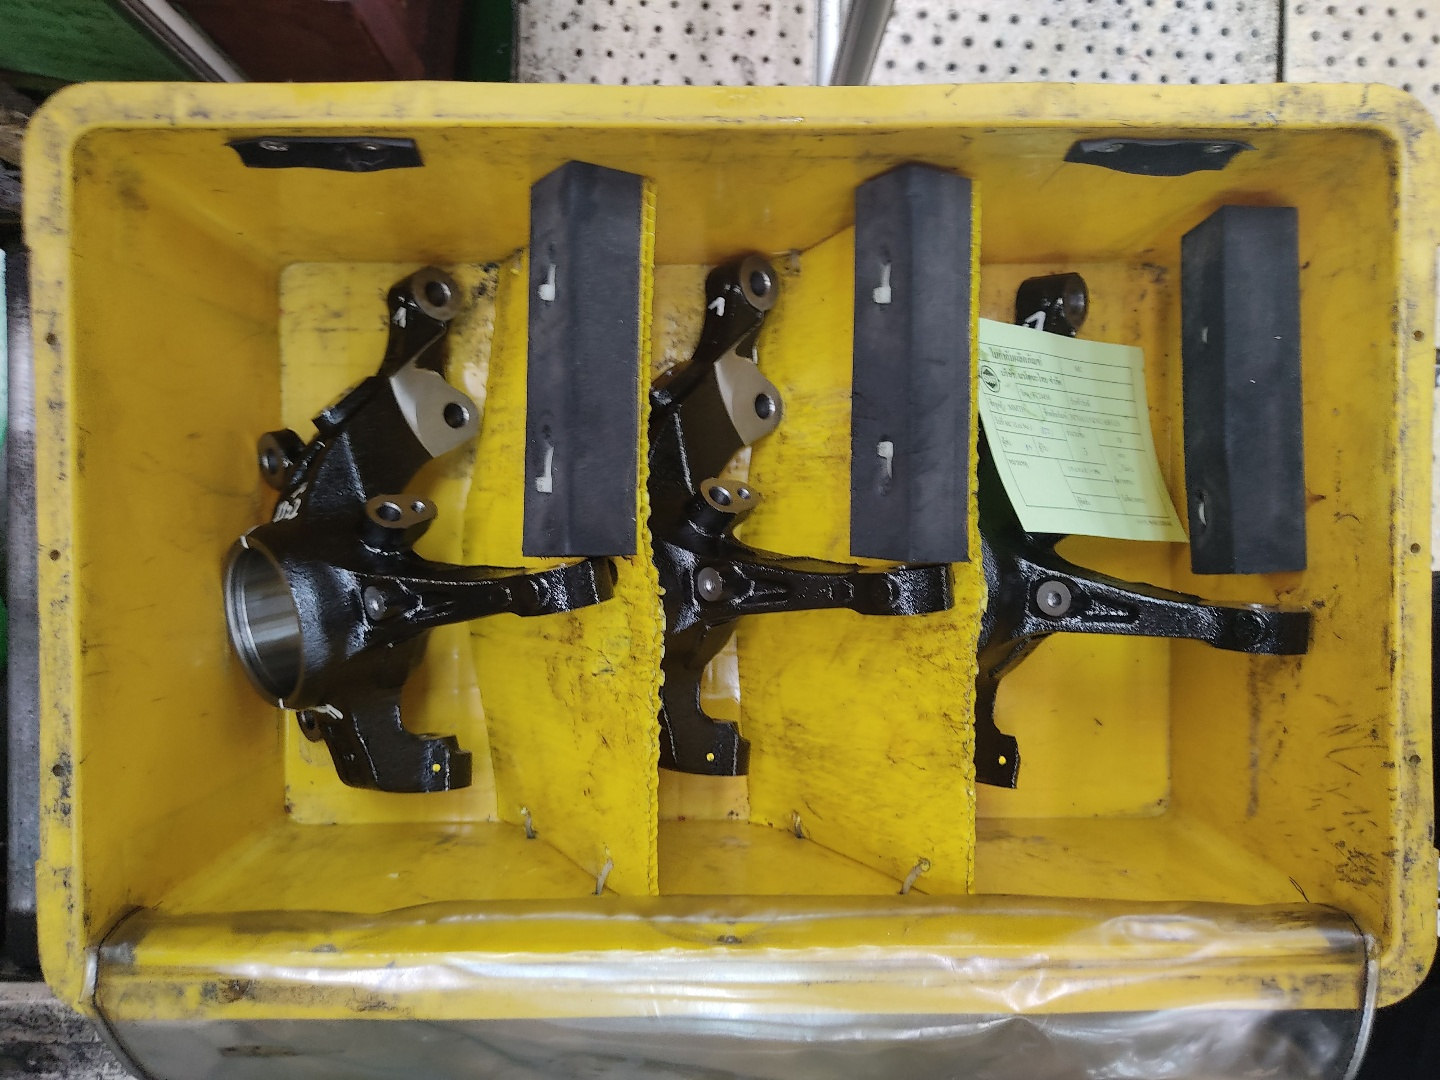abs-lh: (217, 260, 622, 803), (967, 267, 1318, 793), (632, 248, 960, 788)
